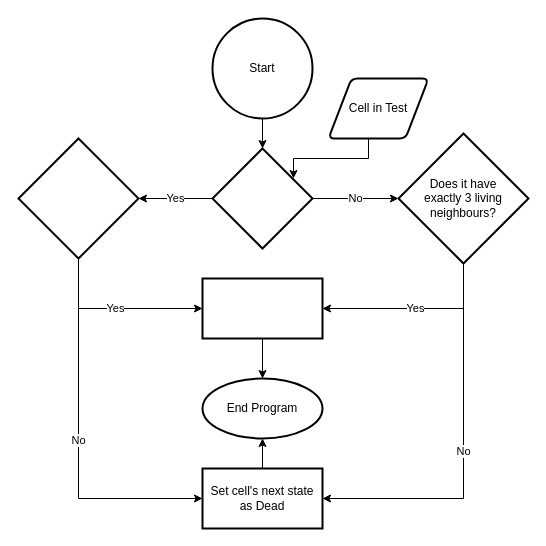
Image size: 546x546. Some labels were removed from this diagram. Here are the shapes that lost their labels. From the top down, the centre of each, then its label:
At point 78,198: "Does it have 2-3 living neighbours?".
At point 262,198: "Is cell Alive?".
At point 262,308: "Set Cell's Next State as Alive".
